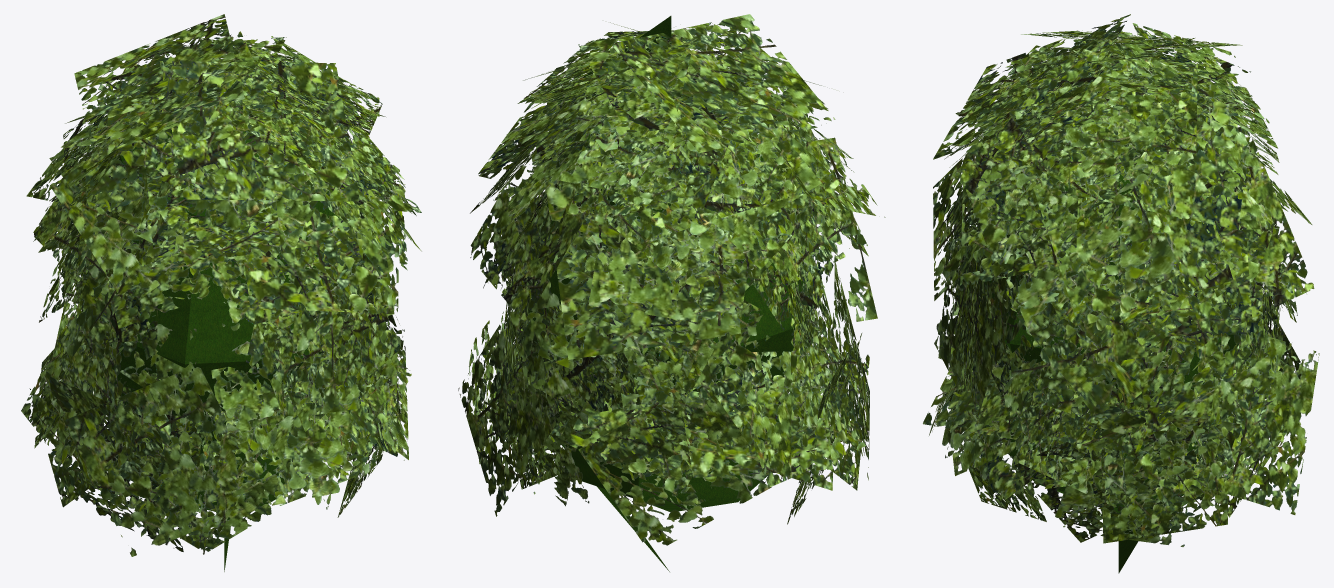
File: shrub.glb
3 renders of one model, left to right at view 1: azimuth 30°, elevation 25°; view 2: azimuth 150°, elevation 25°; view 3: azimuth 270°, elevation 25°, orthographic. The views are drawn at different scales.
Parts seen in each view (by area): view 1: _MeshInstance3D_11; view 2: _MeshInstance3D_11; view 3: _MeshInstance3D_11.
Part boxes in pixels (box(x1,y1,x2,y2)): _MeshInstance3D_11: box(21, 14, 421, 571); _MeshInstance3D_11: box(458, 14, 885, 571); _MeshInstance3D_11: box(923, 14, 1319, 573).
Bounding box in the file's own units: 0.878 × 1.3 × 0.8629.
2 materials, 2 textured.
